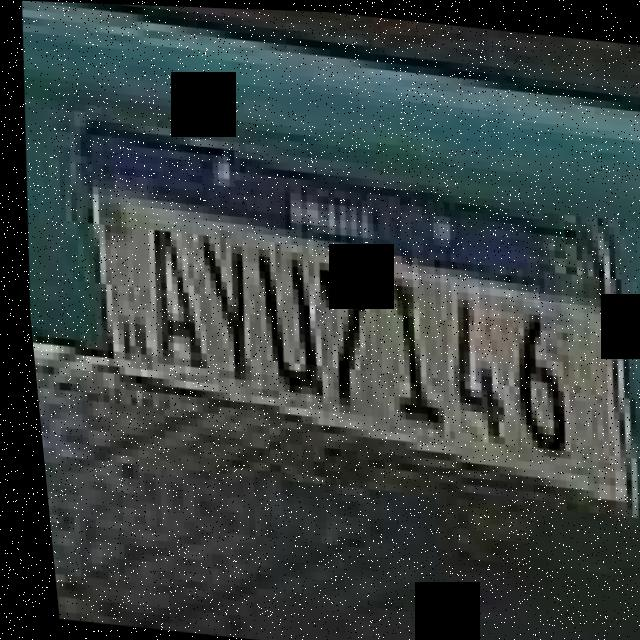4: (433, 275, 508, 448)
6: (497, 295, 572, 454)
7: (303, 247, 376, 414)
A: (133, 217, 203, 378)
I: (364, 256, 440, 434)
U: (242, 240, 315, 396)
Y: (186, 226, 254, 384)
